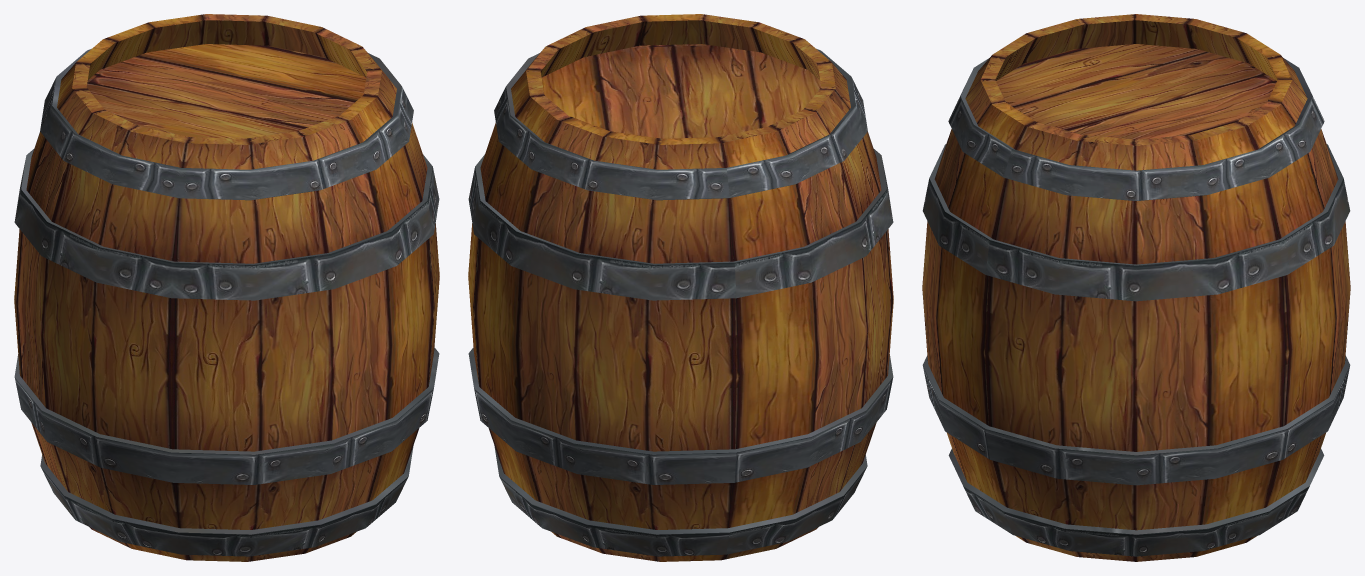
The model's file is barrel.obj.
3 renders of one model, left to right at view 1: azimuth 30°, elevation 25°; view 2: azimuth 150°, elevation 25°; view 3: azimuth 270°, elevation 25°, orthographic.
Parts seen in each view (by area): view 1: barrel; view 2: barrel; view 3: barrel.
Part boxes in pixels (x1=…): barrel: x1=14, y1=14, x2=439, y2=561; barrel: x1=468, y1=14, x2=893, y2=561; barrel: x1=922, y1=14, x2=1350, y2=561.
Size of the model in its own units: 1.85 by 1.98 by 1.85.
Materials: 2 (2 with a texture image).
